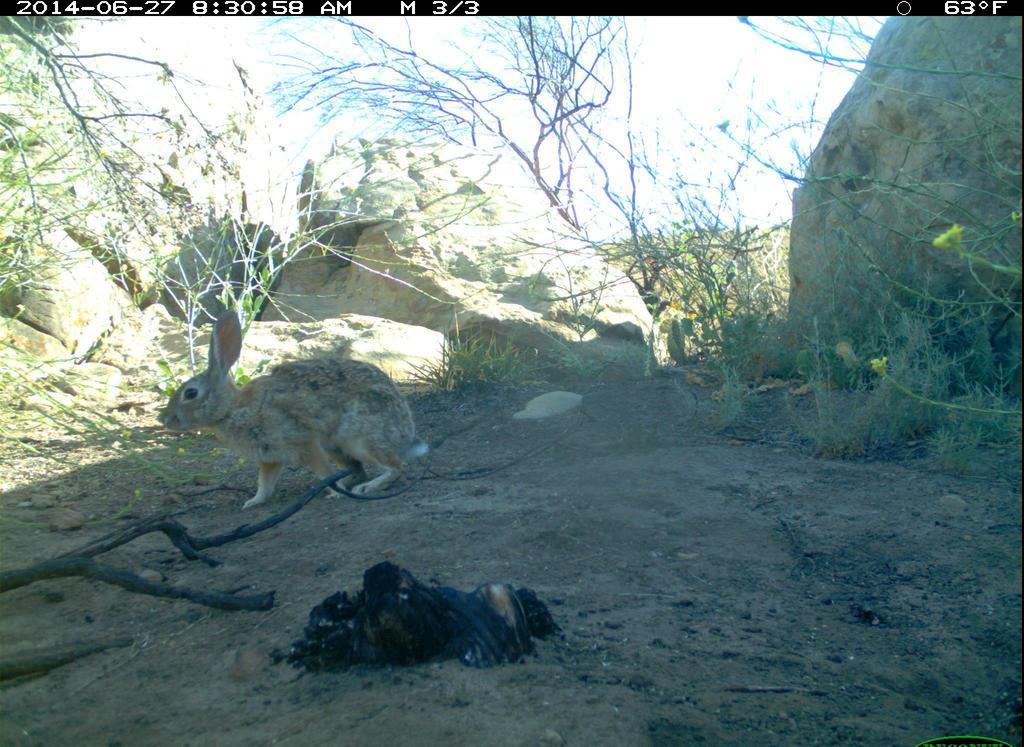rabbit: (155, 298, 438, 510)
